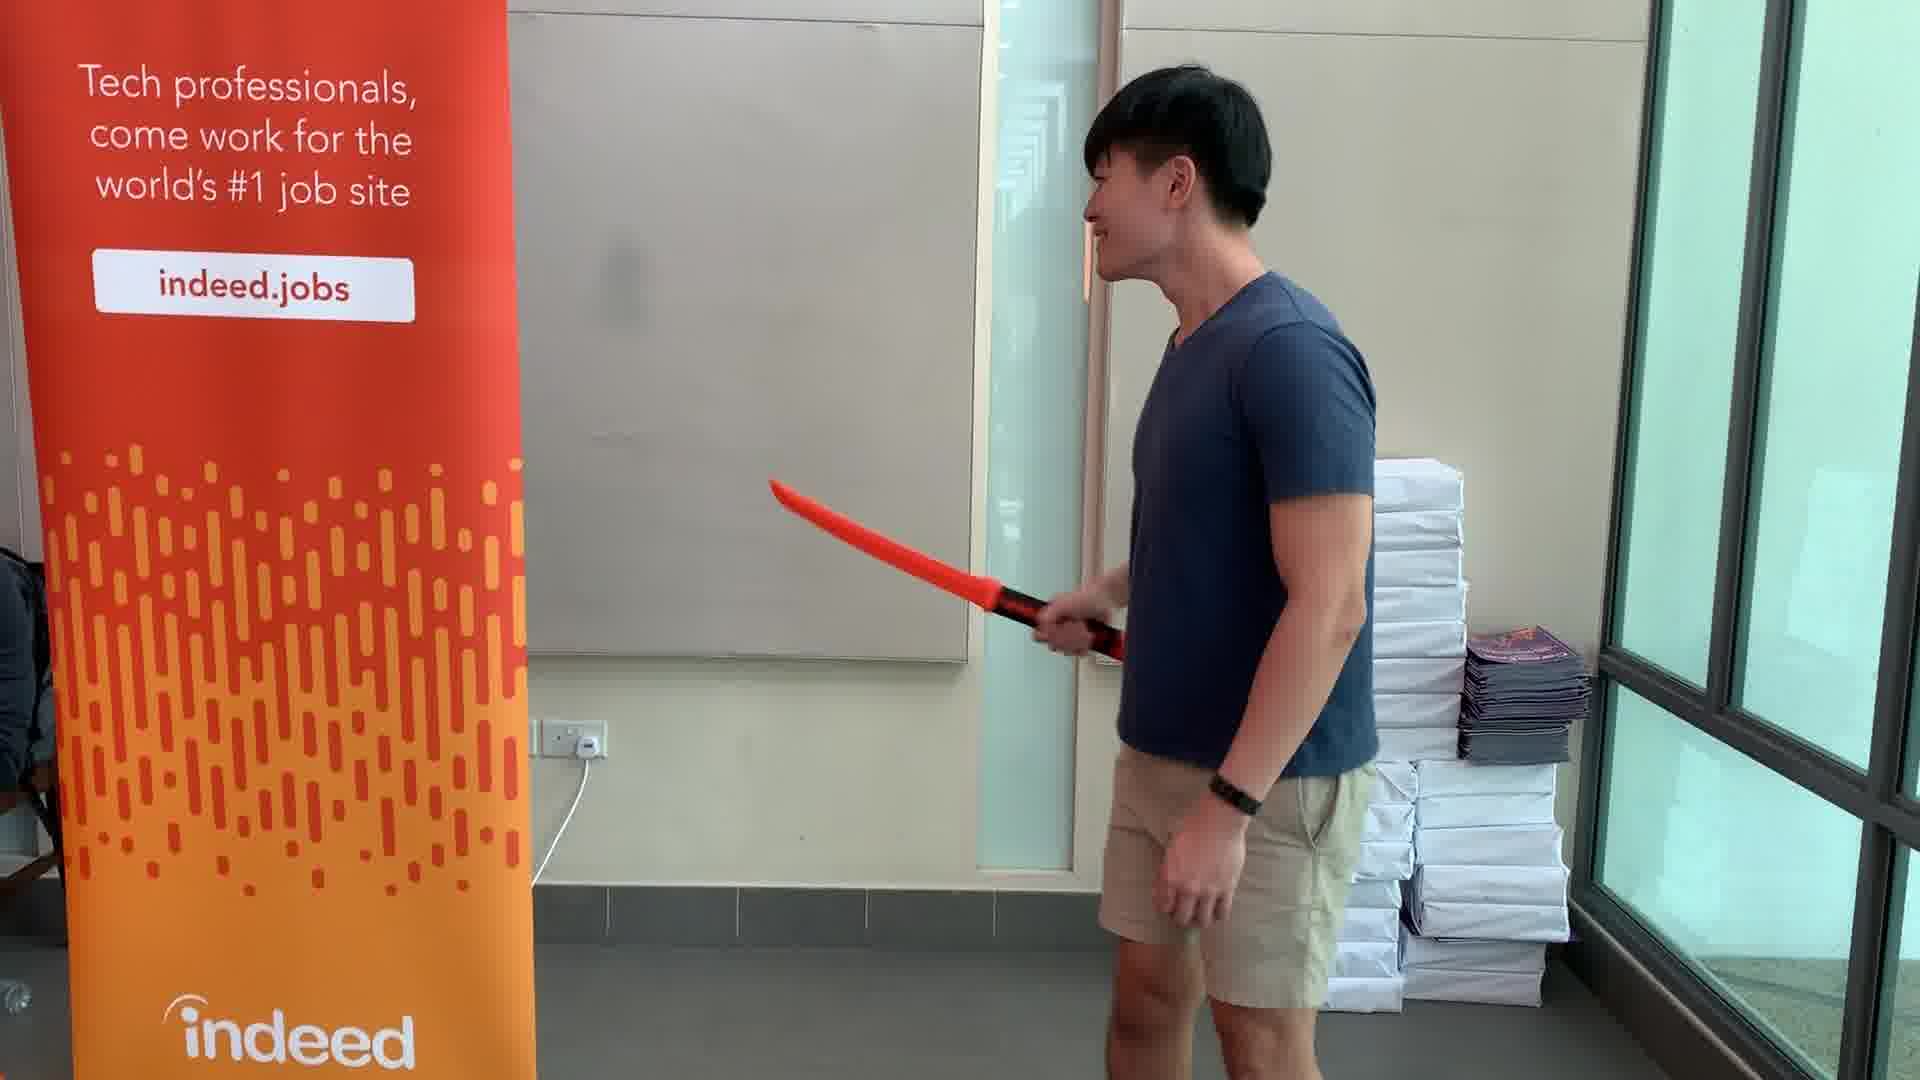knife: (757, 464, 1150, 666)
